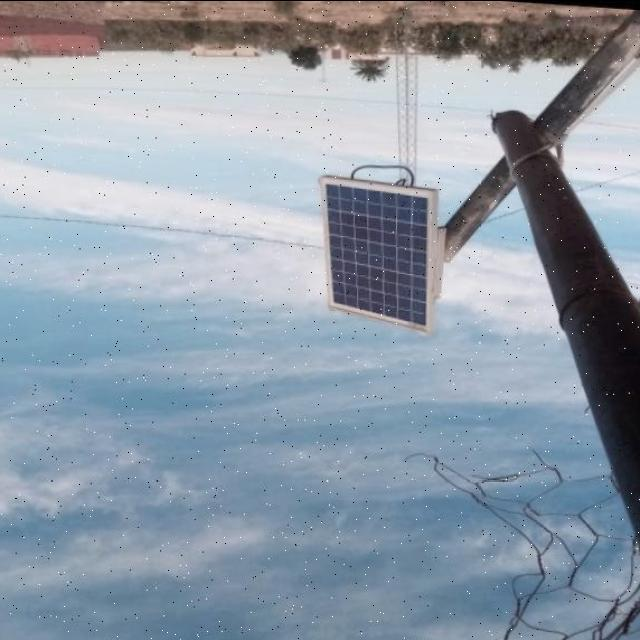Normal Solar Panel: (318, 173, 433, 324)
